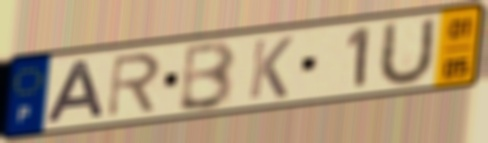1: (344, 24, 370, 90)
A: (43, 57, 107, 127)
B: (175, 38, 239, 114)
K: (245, 34, 296, 102)
R: (105, 50, 164, 121)
U: (374, 14, 439, 91)
